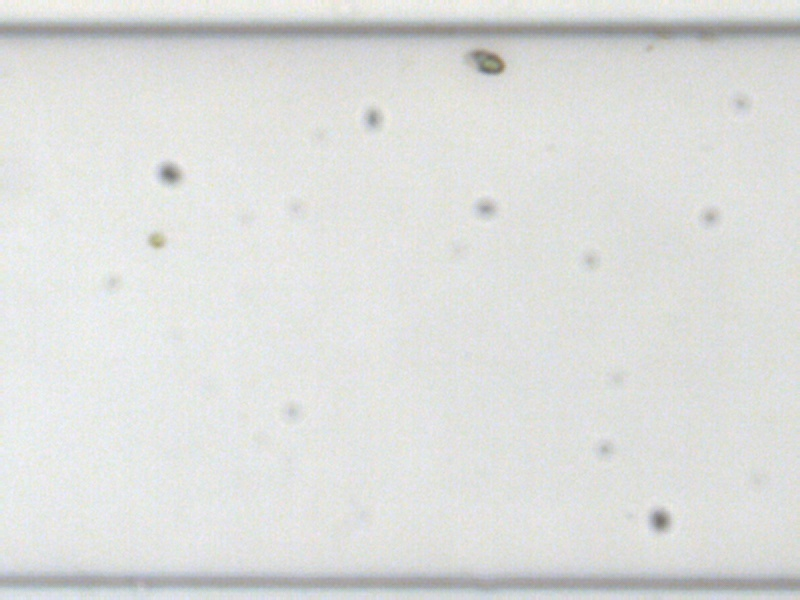Chlorella: (146, 228, 167, 251)
Dunaliella salina: (463, 47, 506, 75)
